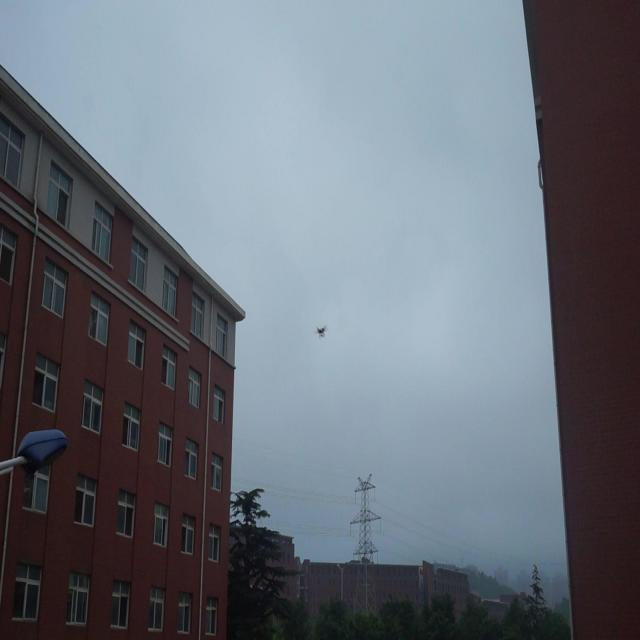UAV: (314, 326, 327, 338)
